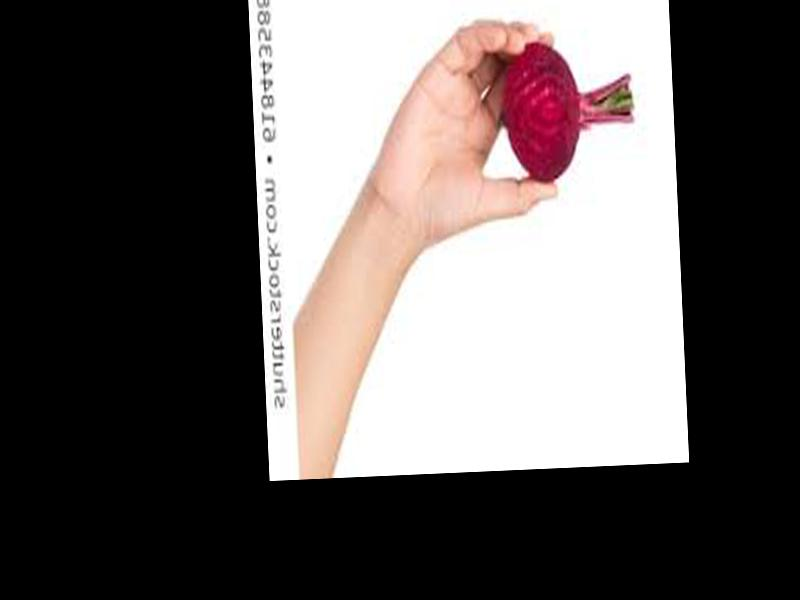Beet: (499, 35, 636, 183)
